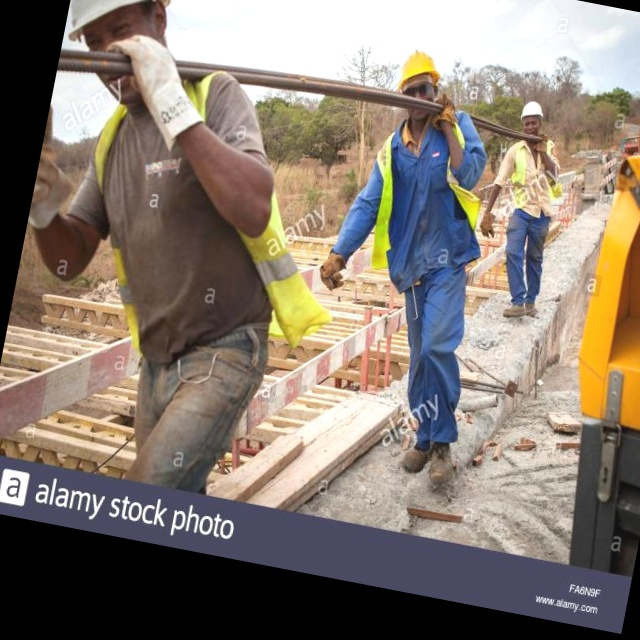Con_Casco: (392, 45, 445, 115), (518, 98, 549, 136)
Con_Chaleco: (360, 112, 495, 272)
